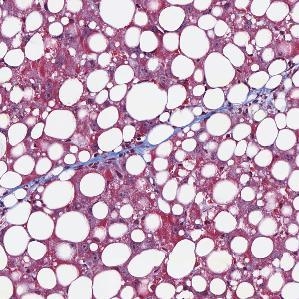fibrosis: (94, 146, 146, 169)
